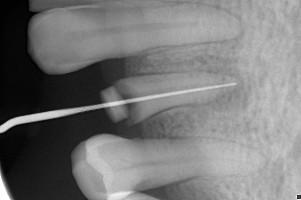Furcation Involvement: (191, 52, 253, 112), (213, 5, 249, 48)
